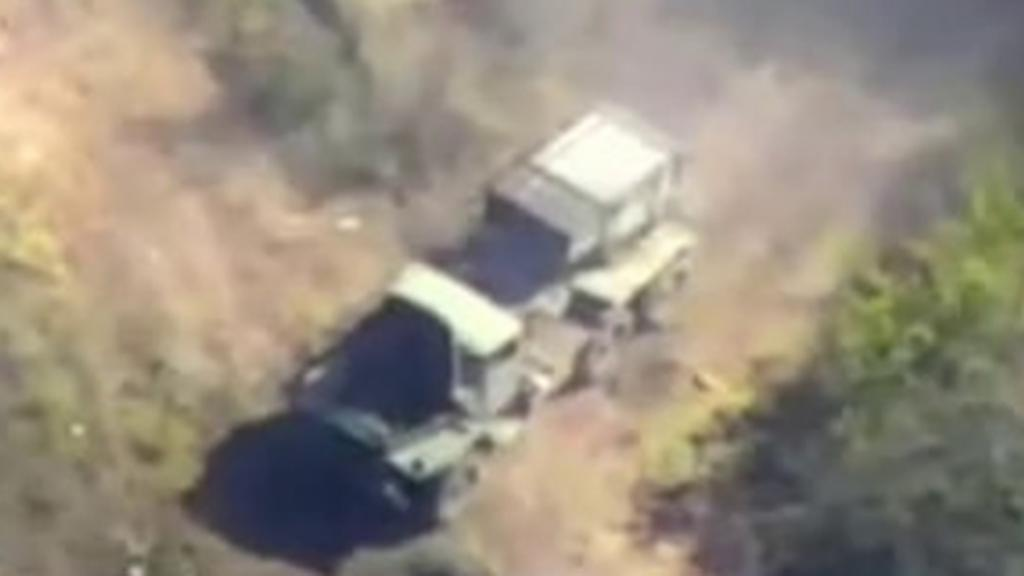MLRS: (284, 99, 700, 500)
